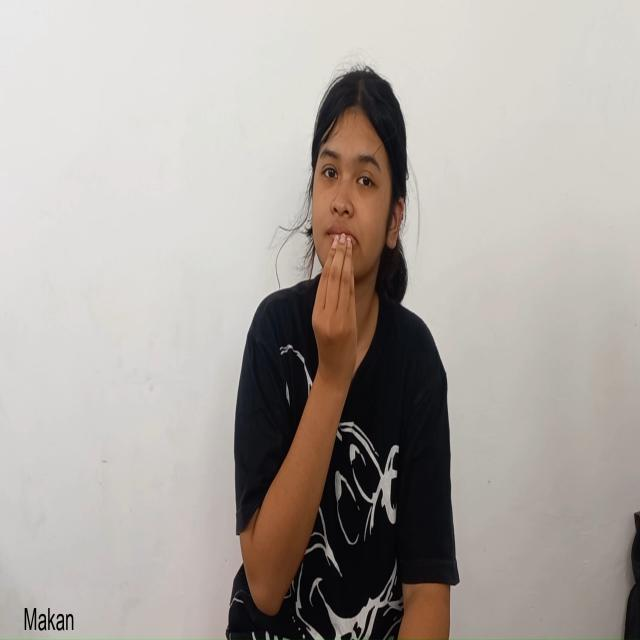Makan -BISINDO-: (311, 71, 405, 400)
